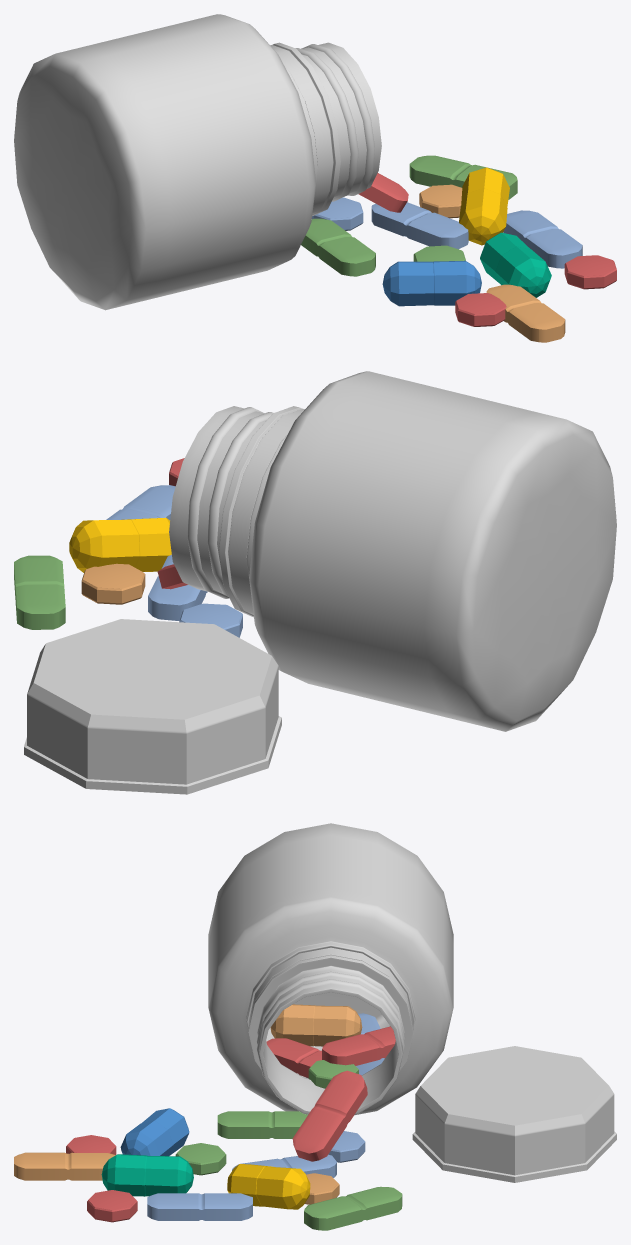
Rendered from yaopin.fbx.
3 views of the same model, one above another, from view 1: azimuth 30°, elevation 25°; view 2: azimuth 150°, elevation 25°; view 3: azimuth 270°, elevation 25° (orthographic). The views are drawn at different scales.
Visible parts, largest first — view 1: pCylinder7, pSphere2, pSphere4, pSphere1, pCube5, pCube7, pCube4, pCube1, pCube3, pCylinder8, pCylinder11, pCylinder9 (+3 smaller); view 2: pCylinder7, pCylinder4, pSphere4, pCube3, pCylinder9, pCube5, pCube1, pCylinder10; view 3: pCylinder7, pCylinder4, pCube2, pSphere1, pSphere3, pSphere4, pCube1, pCube3, pCube4, pSphere2, pCube7, pCube6 (+8 smaller).
Boxes of the visible parts, <box> form: pCylinder7: <box>14,14,381,310</box>; pSphere2: <box>382,260,481,306</box>; pSphere4: <box>459,167,509,245</box>; pSphere1: <box>480,232,551,297</box>; pCube5: <box>371,202,468,249</box>; pCube7: <box>301,218,375,276</box>; pCube4: <box>486,284,565,342</box>; pCube1: <box>503,210,582,268</box>; pCube3: <box>409,155,517,199</box>; pCylinder8: <box>564,255,616,289</box>; pCylinder11: <box>455,293,506,326</box>; pCylinder9: <box>419,184,462,218</box>; pCylinder7: <box>169,371,616,731</box>; pCylinder4: <box>24,619,281,794</box>; pSphere4: <box>69,517,171,572</box>; pCube3: <box>14,555,65,629</box>; pCylinder9: <box>81,563,145,604</box>; pCube5: <box>148,554,207,621</box>; pCube1: <box>106,485,175,520</box>; pCylinder10: <box>179,603,242,637</box>; pCylinder7: <box>208,823,453,1115</box>; pCylinder4: <box>412,1046,616,1182</box>; pCube2: <box>292,1070,367,1161</box>; pSphere1: <box>101,1154,193,1196</box>; pSphere3: <box>270,1004,362,1046</box>; pSphere4: <box>227,1164,310,1209</box>; pCube1: <box>147,1193,252,1220</box>; pCube3: <box>304,1186,402,1230</box>; pCube4: <box>14,1152,115,1180</box>; pSphere2: <box>120,1108,189,1155</box>; pCube7: <box>217,1111,307,1138</box>; pCube6: <box>322,1026,395,1065</box>.
Bounding box in the file's own units: 3.58 × 1.85 × 4.56.
